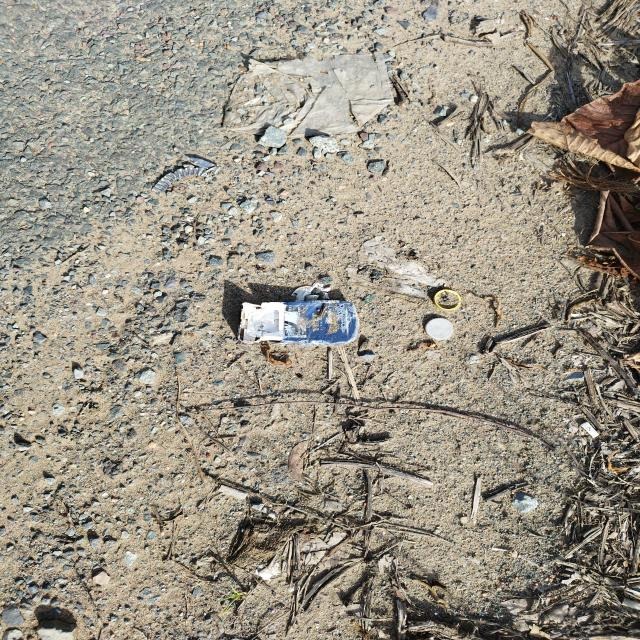cardboard box: (238, 300, 359, 346)
